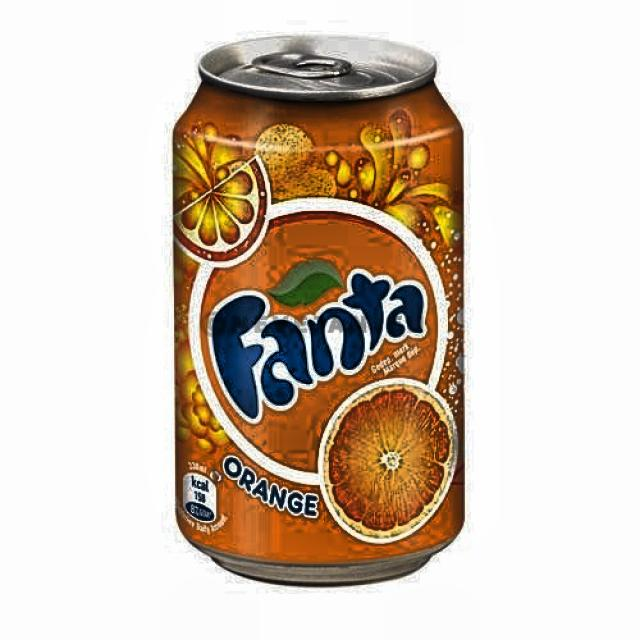Cans: (167, 28, 466, 596)
